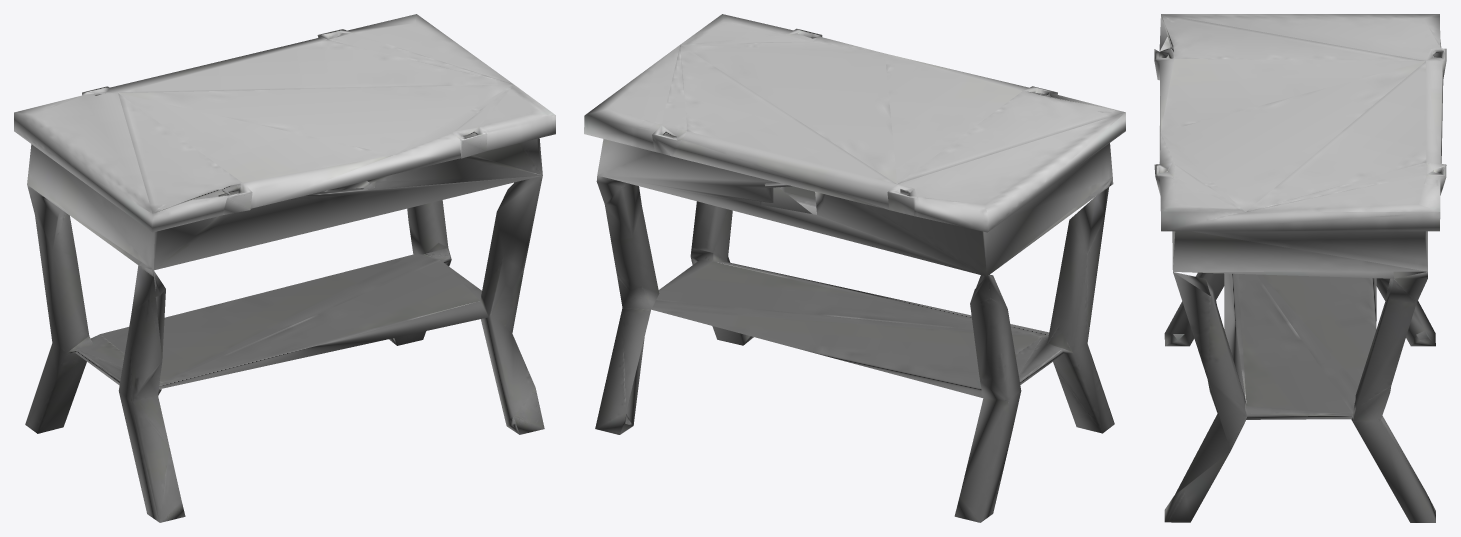
3 renders of one model, left to right at view 1: azimuth 30°, elevation 25°; view 2: azimuth 150°, elevation 25°; view 3: azimuth 270°, elevation 25°, orthographic.
Size of the model in its own units: 1.9 by 1.42 by 1.18.
Materials: 1 (1 with a texture image).
